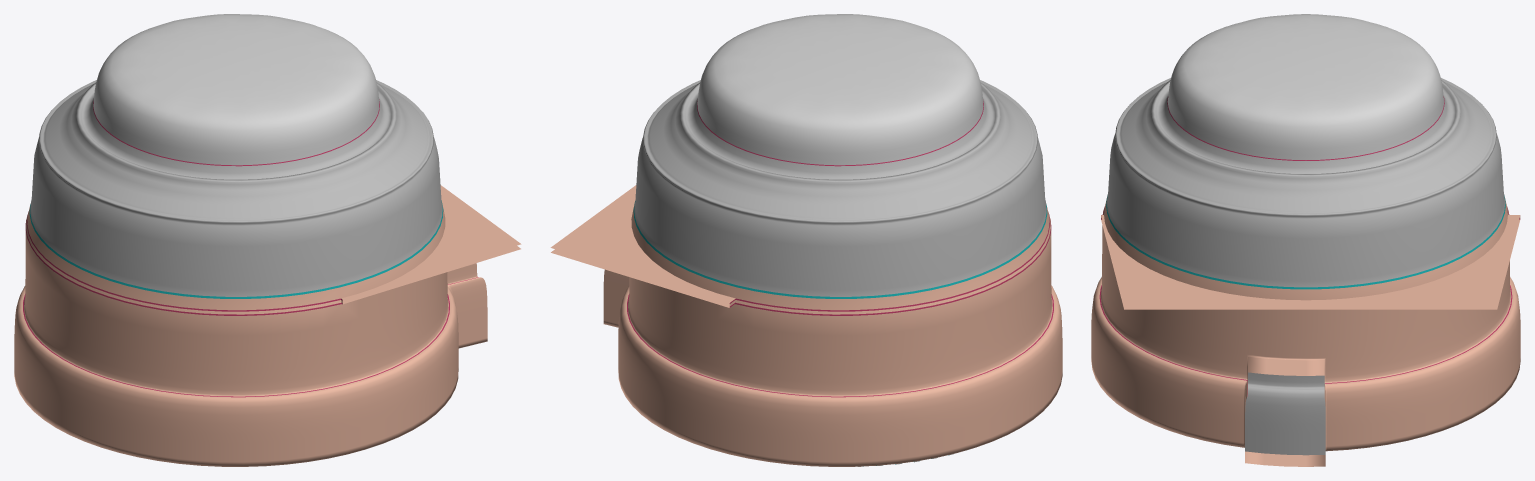
The picture shows the model from 3 angles, left to right: view 1: azimuth 30°, elevation 25°; view 2: azimuth 150°, elevation 25°; view 3: azimuth 270°, elevation 25°; orthographic projection. The views are drawn at different scales.
Visible parts, largest first — view 1: Cylinder.017, Cylinder.023, Cylinder.022, Cylinder.020; view 2: Cylinder.017, Cylinder.023, Cylinder.022, Cylinder.020; view 3: Cylinder.017, Cylinder.023, Cylinder.022, Cylinder.019, Cylinder.020.
Boxes of the visible parts, bbox=[...] form: Cylinder.017: bbox=[14, 80, 487, 466]; Cylinder.023: bbox=[93, 14, 379, 165]; Cylinder.022: bbox=[341, 185, 521, 299]; Cylinder.020: bbox=[342, 245, 520, 304]; Cylinder.017: bbox=[603, 80, 1062, 466]; Cylinder.023: bbox=[697, 14, 983, 165]; Cylinder.022: bbox=[550, 185, 735, 302]; Cylinder.020: bbox=[551, 249, 729, 307]; Cylinder.017: bbox=[1091, 78, 1520, 466]; Cylinder.023: bbox=[1167, 14, 1444, 159]; Cylinder.022: bbox=[1101, 215, 1520, 304]; Cylinder.019: bbox=[1245, 372, 1325, 455]; Cylinder.020: bbox=[1101, 219, 1519, 309].
Size of the model in its own units: 2038 by 1504 by 1868.
